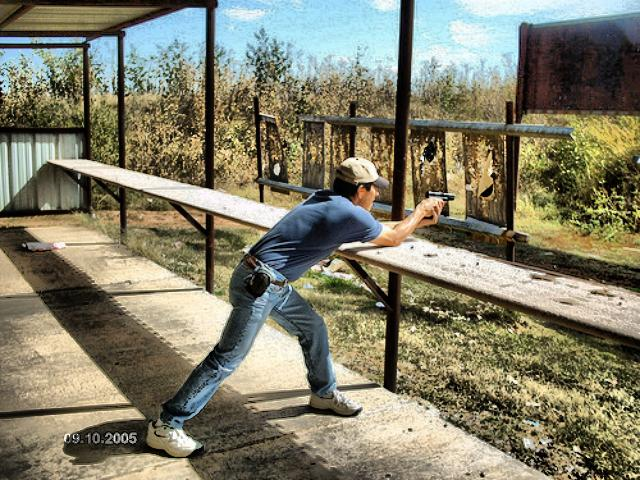pistol: (423, 188, 453, 220)
